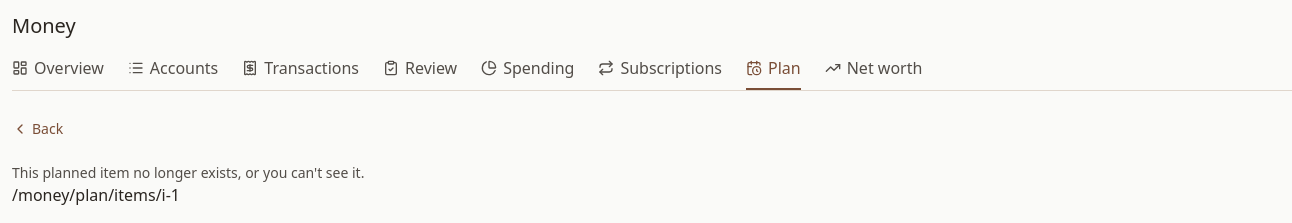
Test: goes back from an item to the project it came from
Click the button "Back": point(38, 129) x1=12 y1=107 x2=63 y2=151
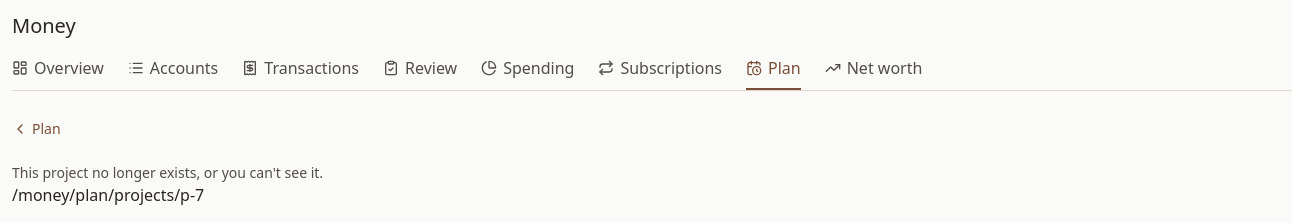
Now the text with test id "where" reads "/money/plan/projects/p-7", box x1=12 y1=184 x2=204 y2=206
